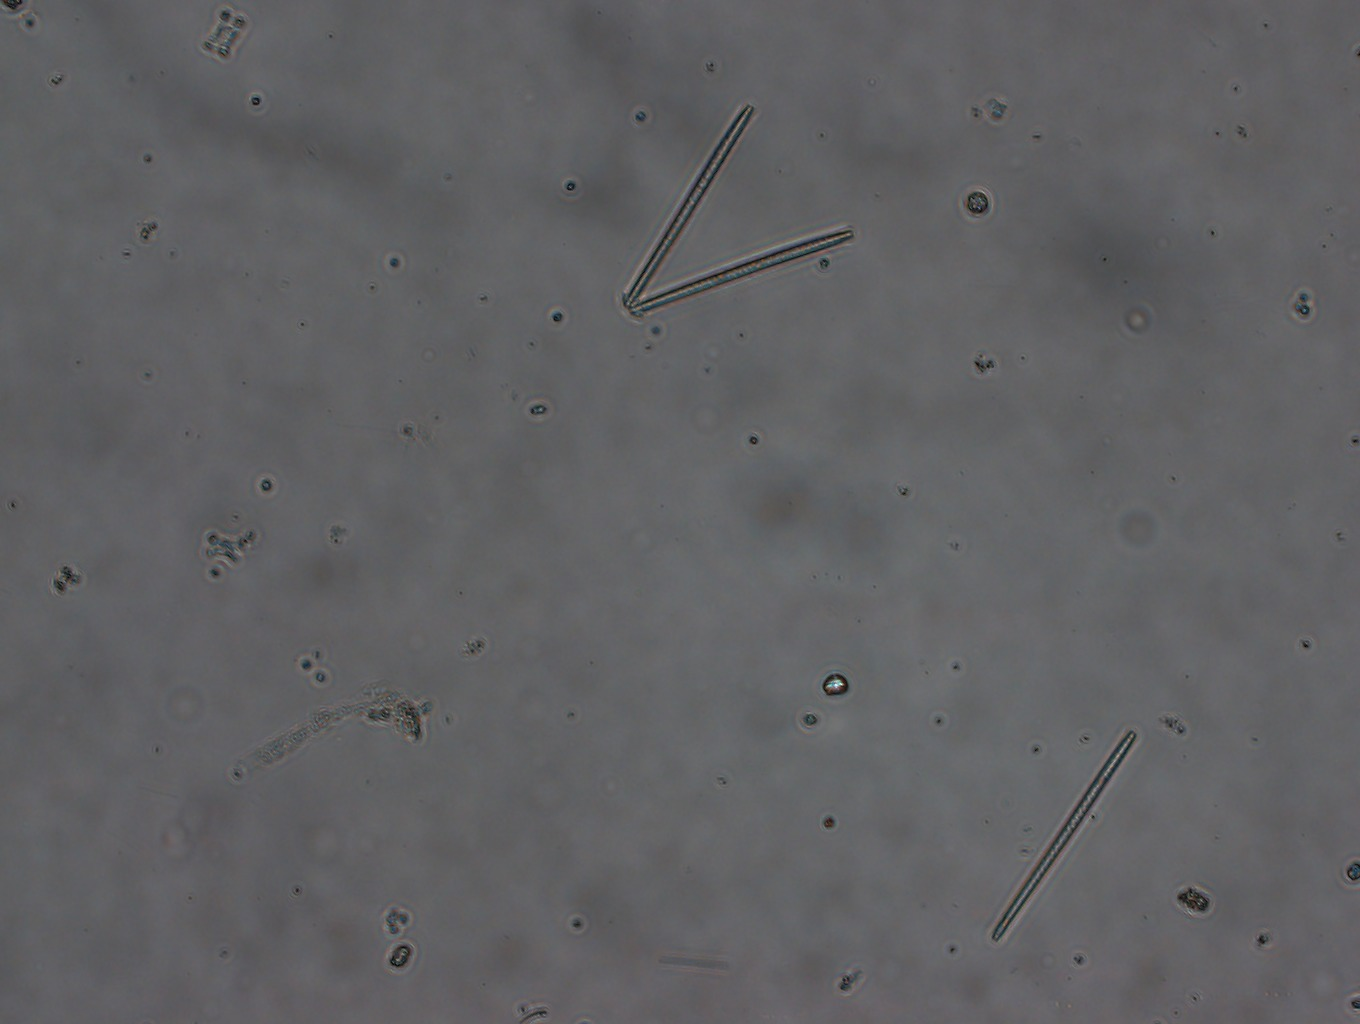thalassionema frauenfeldii: (616, 106, 860, 323)
